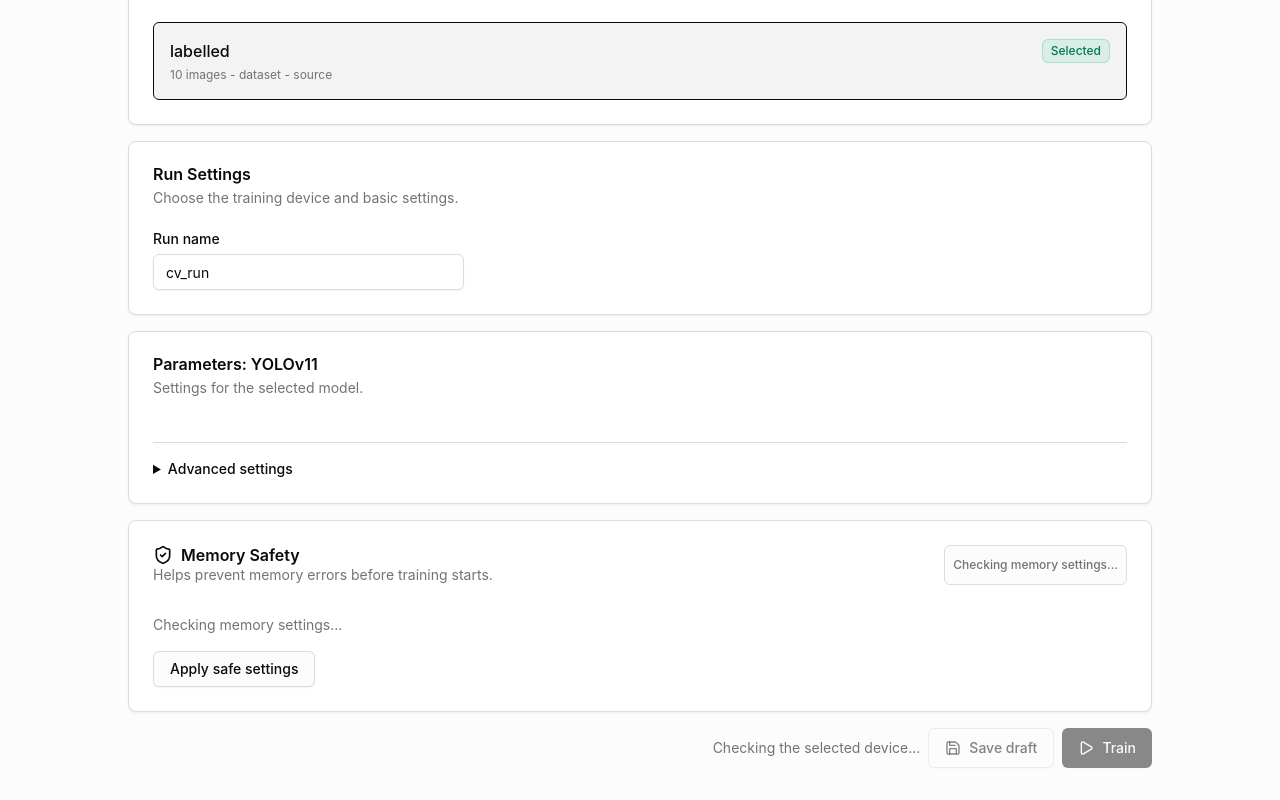
Label Studio mask classes show dataset values and cannot be edited
The width and height of the screenshot is (1280, 800).
(page scrolled)
What coordinates should you click on to do the following:
click the heading "Advanced settings"
I would click on:
 (230, 468)
Its box is [168,460,293,477].
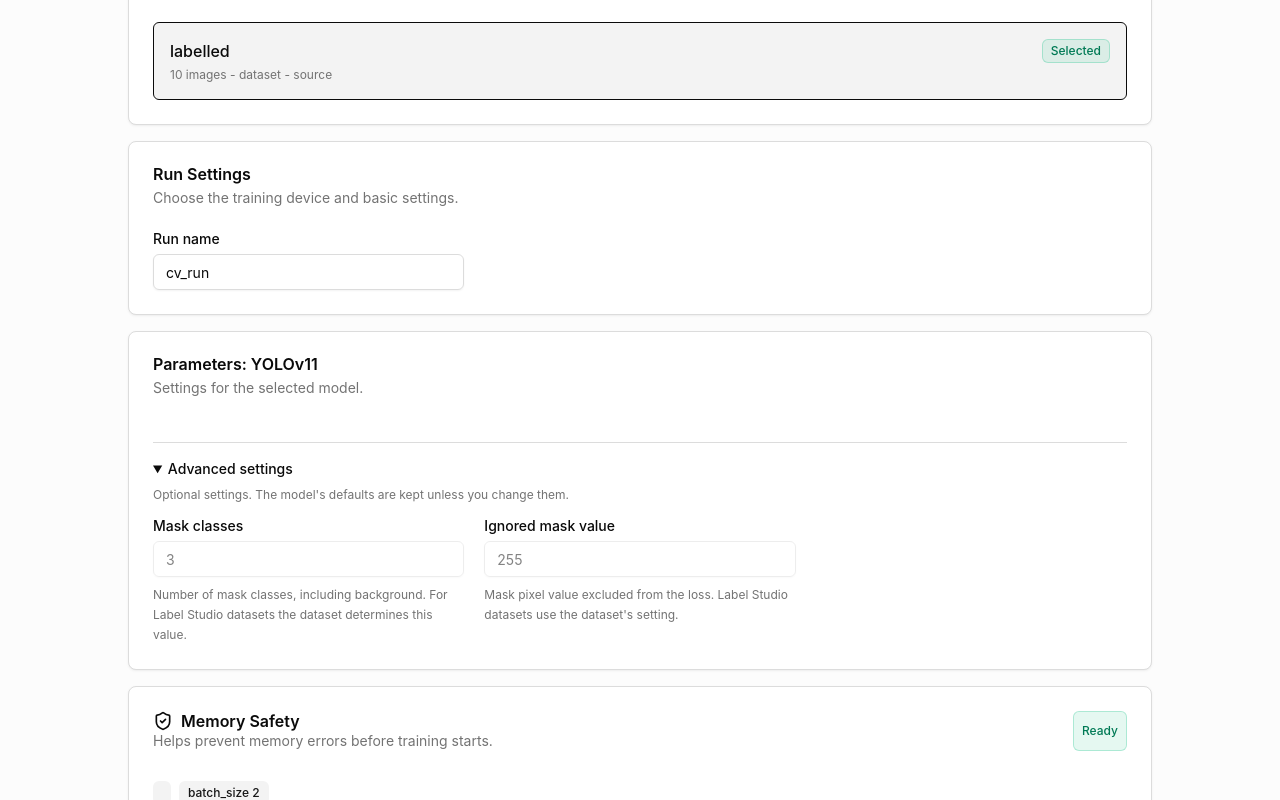
Result: the number field labelled "Mask classes" holds "3" at [153,541,464,577]
Result: the number field labelled "Mask classes" is disabled at [153,541,464,577]
Result: the number field labelled "Ignored mask value" holds "255" at [484,541,796,577]
